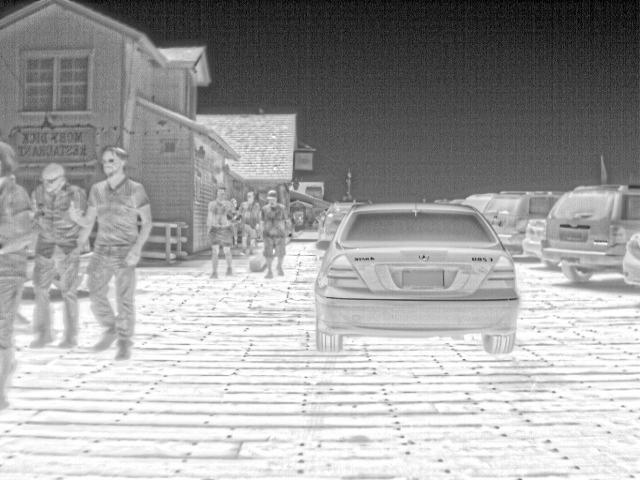car: (312, 198, 526, 350), (543, 183, 640, 285), (478, 192, 567, 257), (317, 206, 354, 246), (621, 228, 639, 289), (525, 217, 549, 255), (463, 191, 500, 212)
person: (76, 144, 155, 363), (24, 162, 87, 345), (1, 139, 36, 408), (207, 184, 238, 278), (259, 190, 293, 271), (237, 189, 259, 256)
